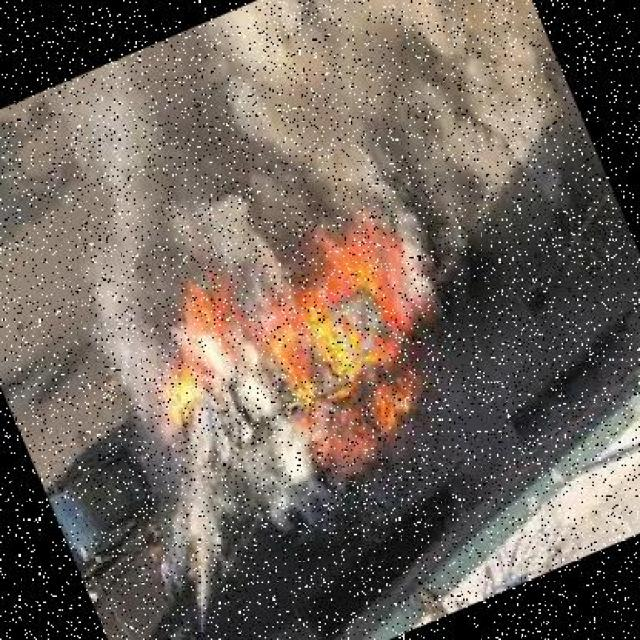fire: (111, 154, 494, 534)
